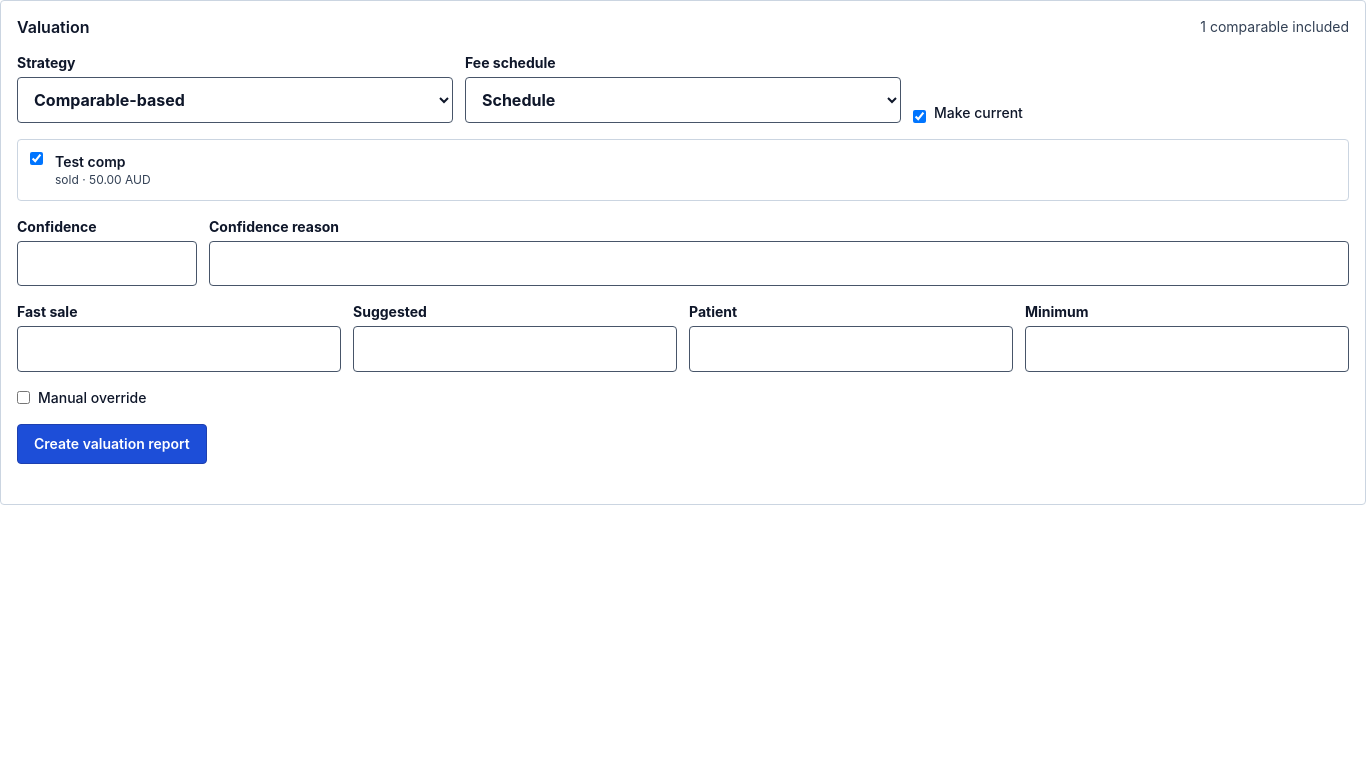
Test: ValuationPanel requires override reason when overriding
Expected: the text "Test comp" is shown, [55, 153, 126, 170]
Click the checkbox labelled "Manual override" at (24, 398), box [17, 391, 30, 404]
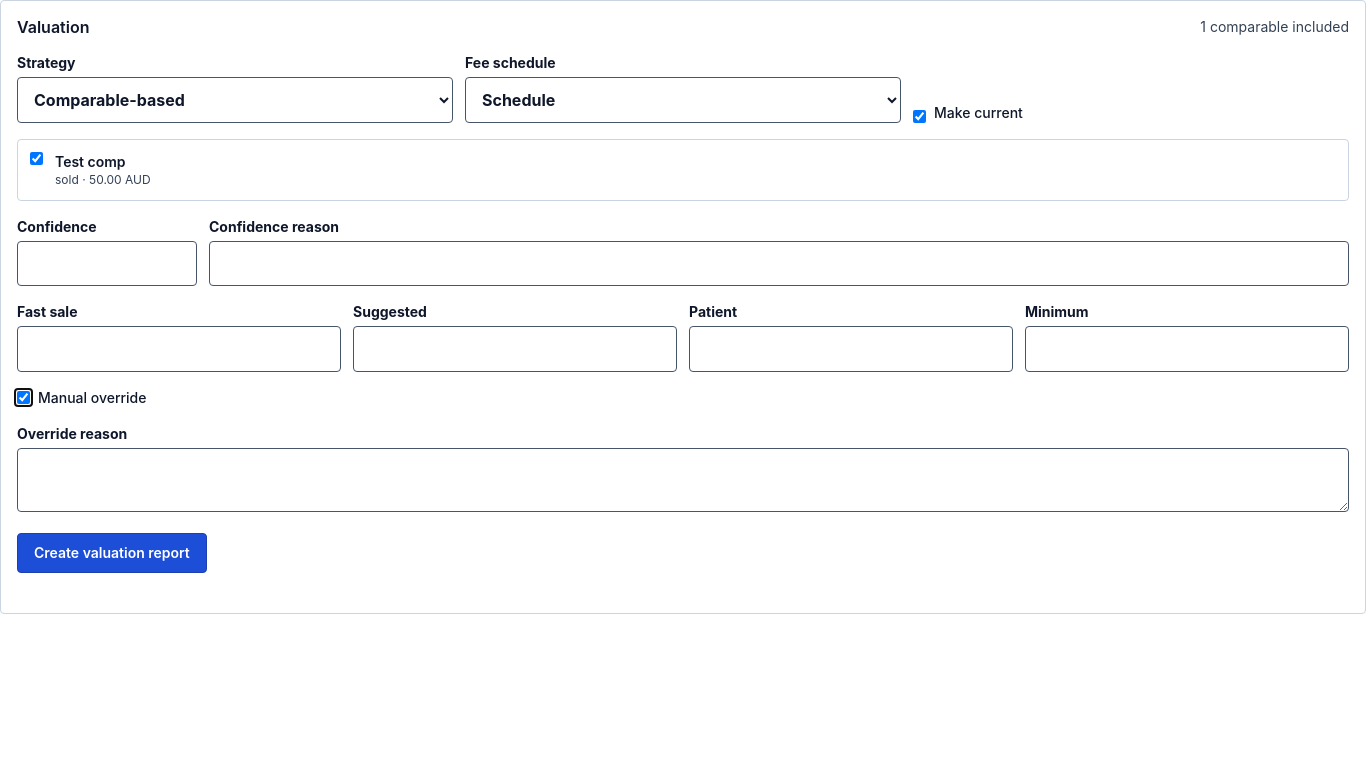
Click the button "Create valuation report" at (112, 553), box [17, 533, 207, 573]
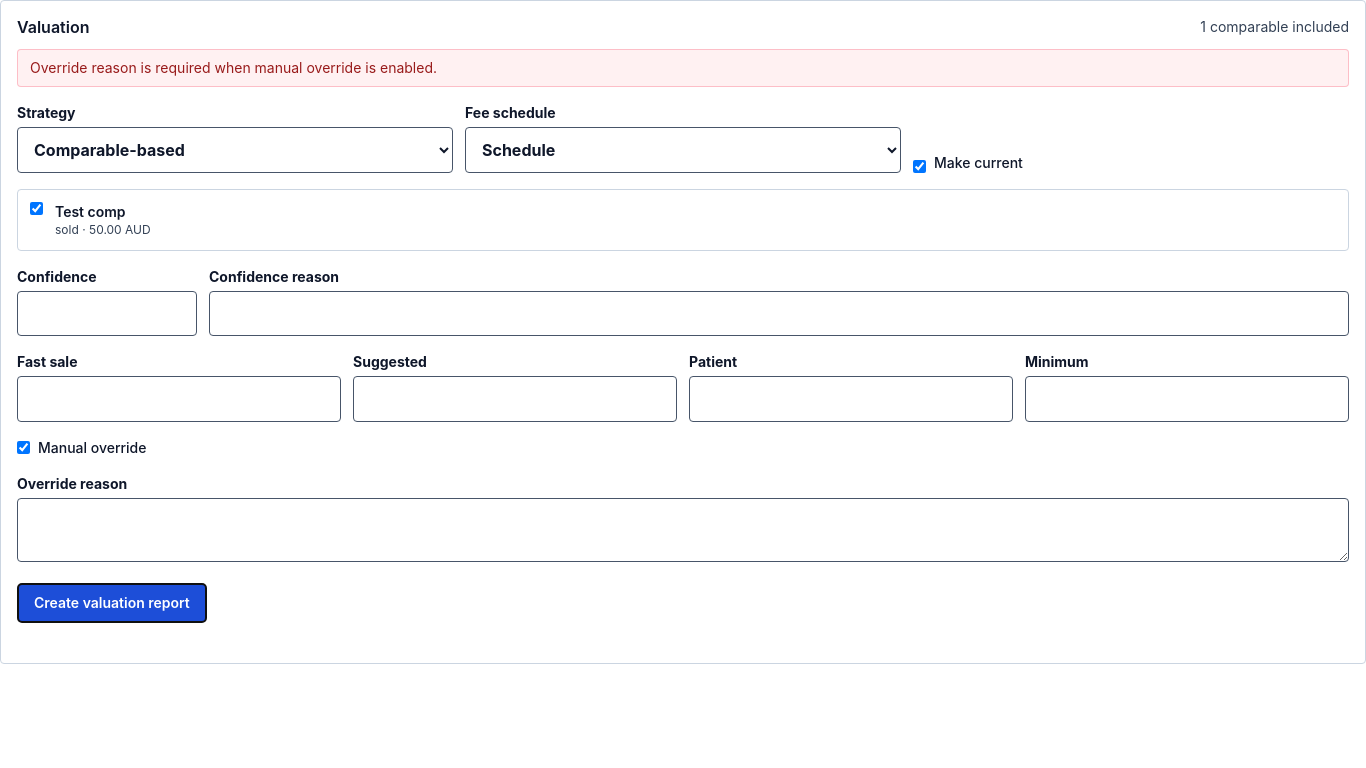
Expected: the text "Override reason is required when manual override is enabled." is shown, [17, 49, 1349, 87]
